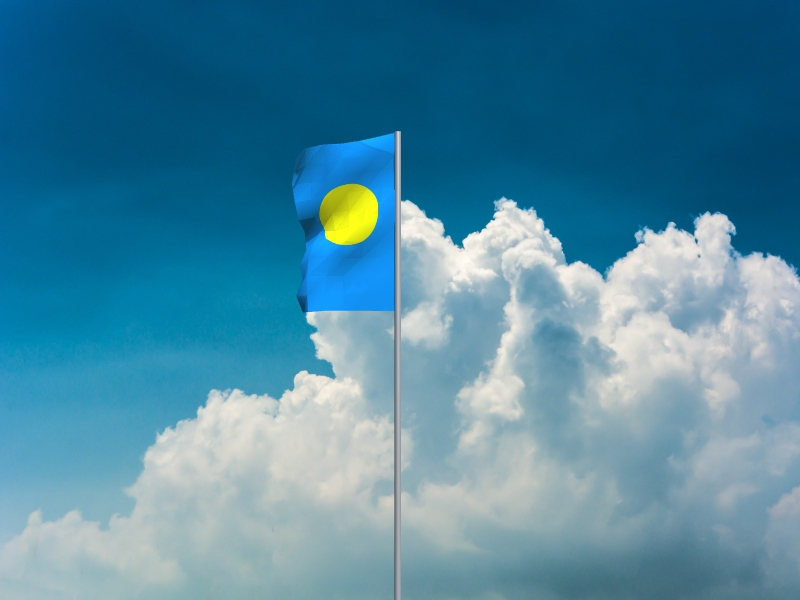pw: (291, 134, 395, 314)
